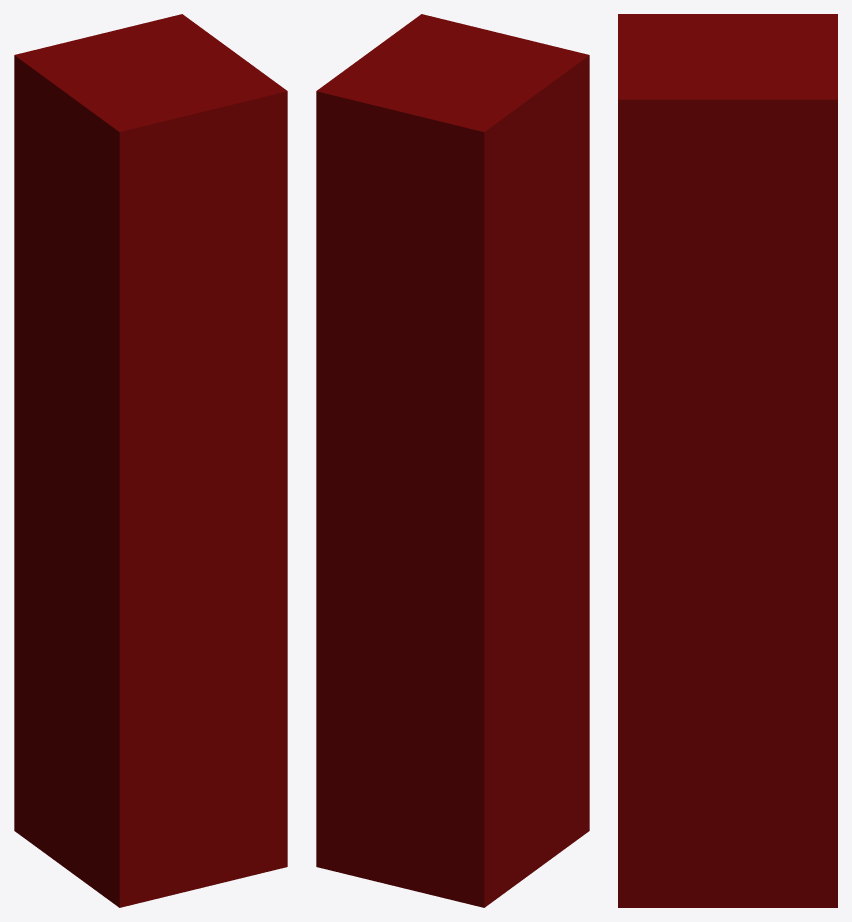
The model's file is shelf02.fbx.
3 views of the same model, side by side, from view 1: azimuth 30°, elevation 25°; view 2: azimuth 150°, elevation 25°; view 3: azimuth 270°, elevation 25° (orthographic). The views are drawn at different scales.
Visible parts, largest first — view 1: shelf_Col; view 2: shelf_Col; view 3: shelf_Col.
Boxes of the visible parts, bbox=[...] form: shelf_Col: bbox=[14, 14, 287, 907]; shelf_Col: bbox=[316, 14, 589, 907]; shelf_Col: bbox=[618, 14, 837, 907].
Size of the model in its own units: 76.8 by 338 by 83.4.
